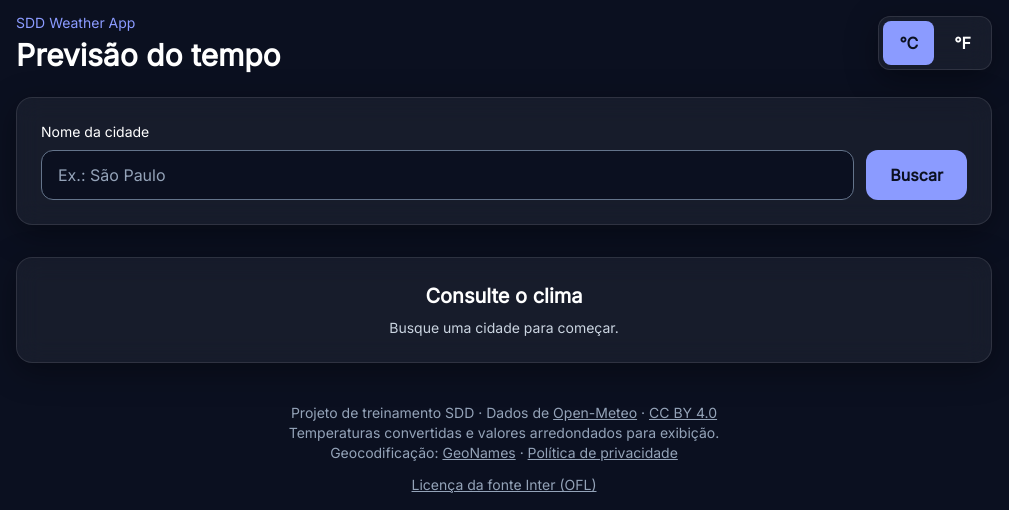
App integrado ao hook › exibe loading e bloqueia busca até finalizar, preservando a unidade
Click the button "°F".
click(963, 43)  # box x1=938 y1=21 x2=987 y2=65
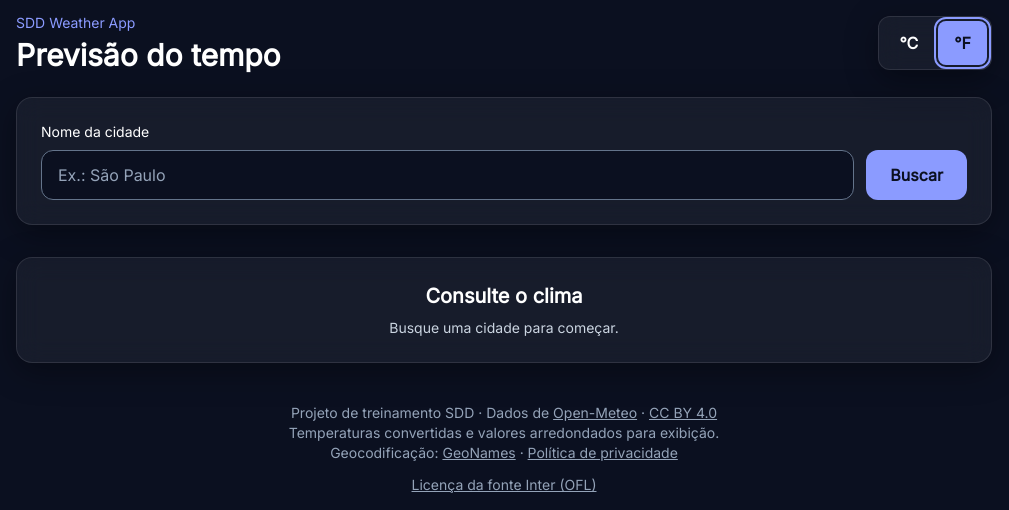
Type "Recife" into the search field.
click(448, 175); type("Recife")  # box x1=41 y1=150 x2=854 y2=200
Then press Enter
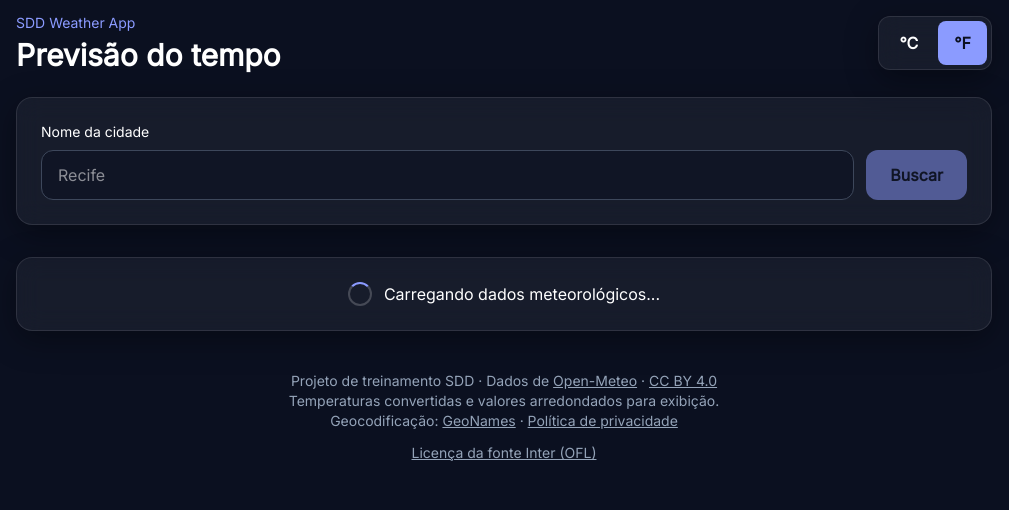
expect the button "°F" is enabled: met, box x1=938 y1=21 x2=987 y2=65
expect the message reads "Carregando dados meteorológicos...": met, box x1=384 y1=284 x2=660 y2=304
expect the search field is disabled: met, box x1=41 y1=150 x2=854 y2=200
